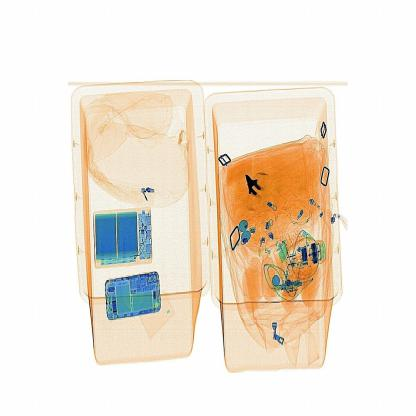gun: (239, 167, 271, 222)
